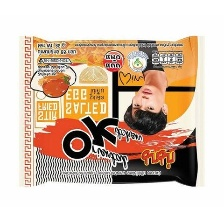snack: (10, 28, 211, 198)
